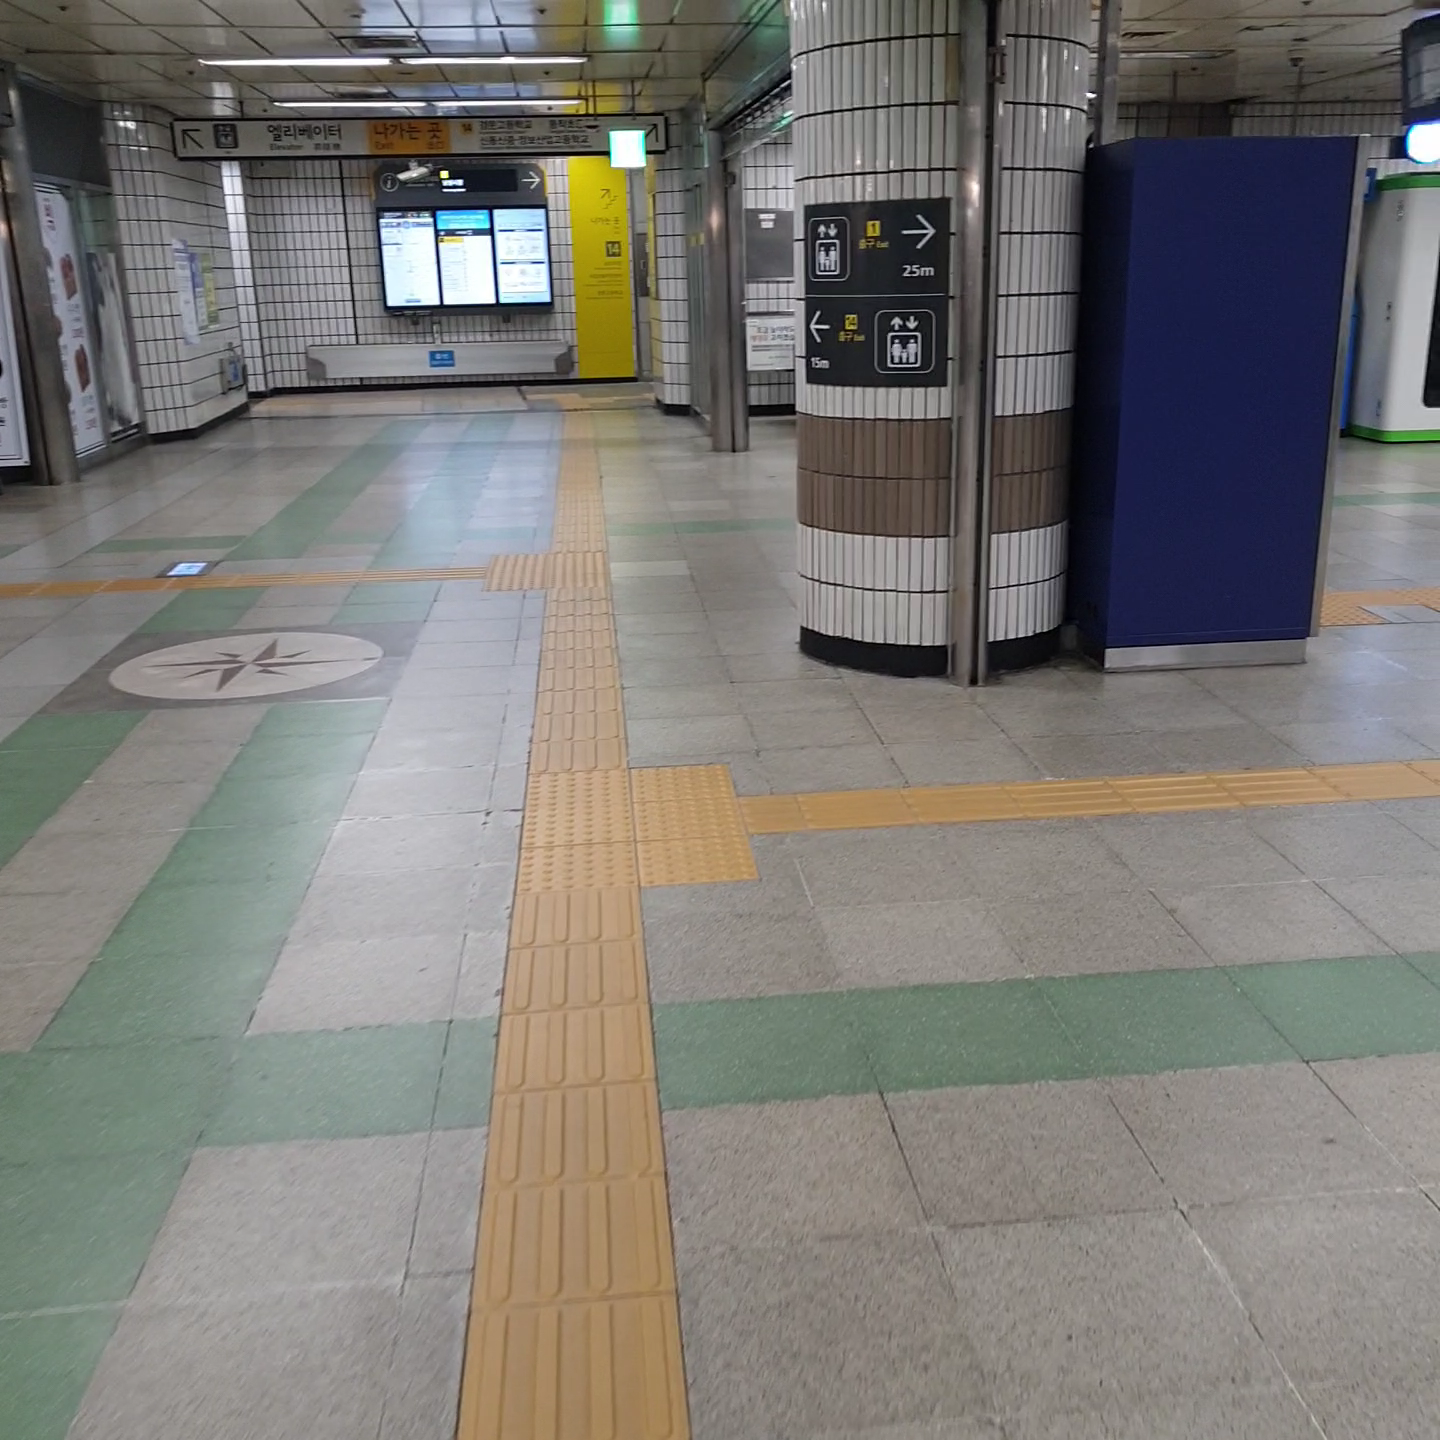dot: (527, 771, 629, 851), (641, 824, 753, 884), (521, 844, 636, 894), (632, 774, 729, 829), (487, 551, 546, 593), (546, 551, 609, 589)
line: (468, 1178, 667, 1300), (483, 1091, 667, 1178), (497, 1004, 661, 1091), (506, 887, 647, 951), (492, 953, 646, 1007), (1113, 769, 1241, 812), (803, 787, 913, 835), (531, 712, 622, 769), (1010, 777, 1125, 818), (1222, 771, 1344, 806), (922, 781, 1010, 825), (541, 665, 618, 713), (542, 589, 611, 640), (541, 626, 621, 666)
